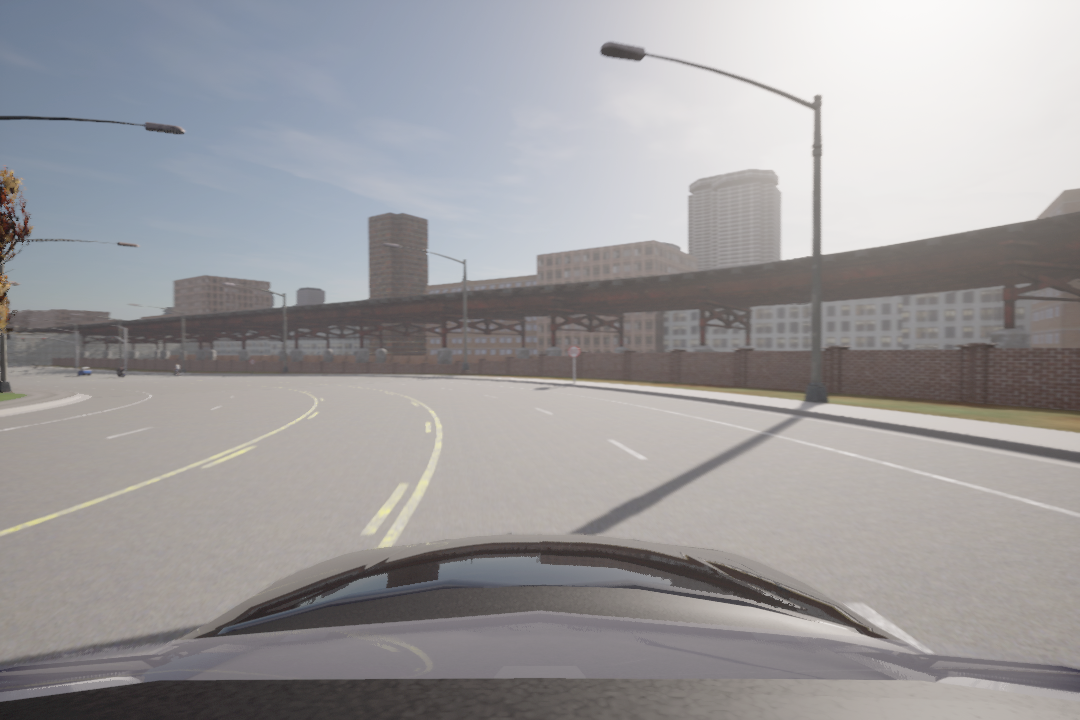TrafficSign_speed: (568, 346, 581, 358)
